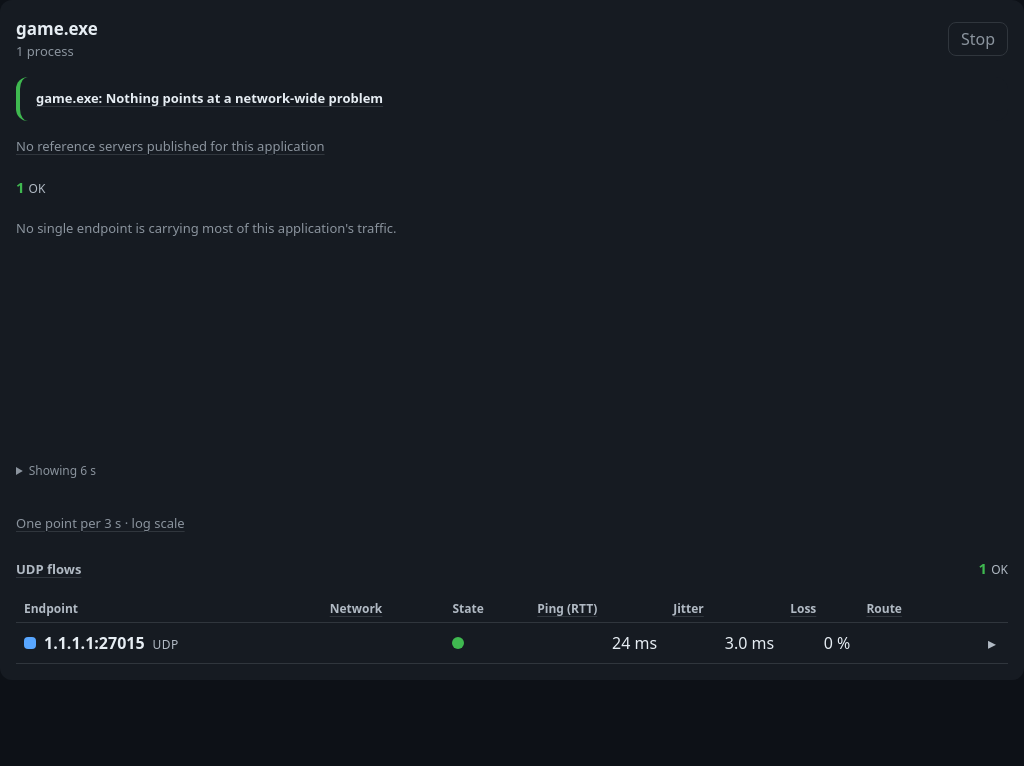
Test: AppCard › opens the caveats in place, with no setting to forget being in
Click the button "▸".
click(992, 643)  # box [984,631,1000,655]
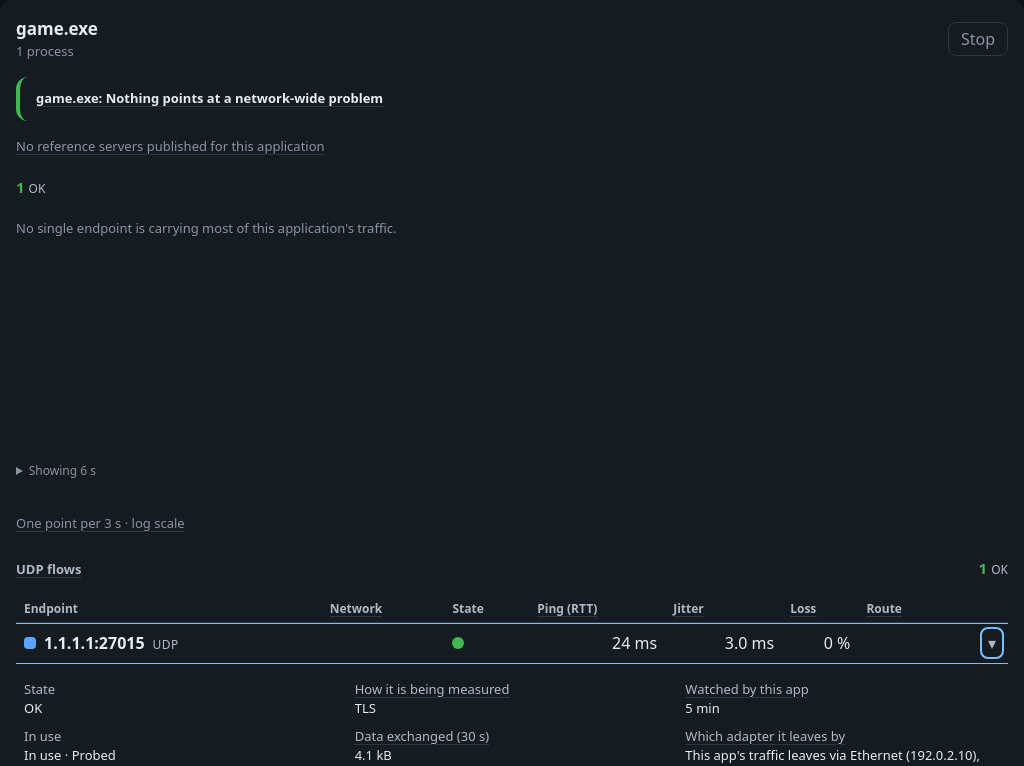
Expected: the button "How it is being measured" is shown, [355,680,510,699]
Expected: the button "Data exchanged (30 s)" is shown, [355,727,489,746]
